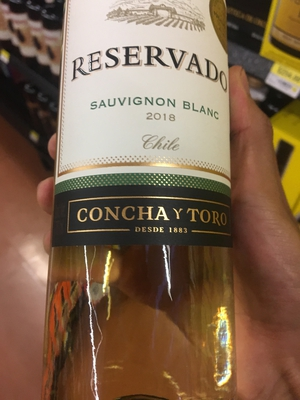reservado sauvignon blanc: (58, 5, 243, 400)
